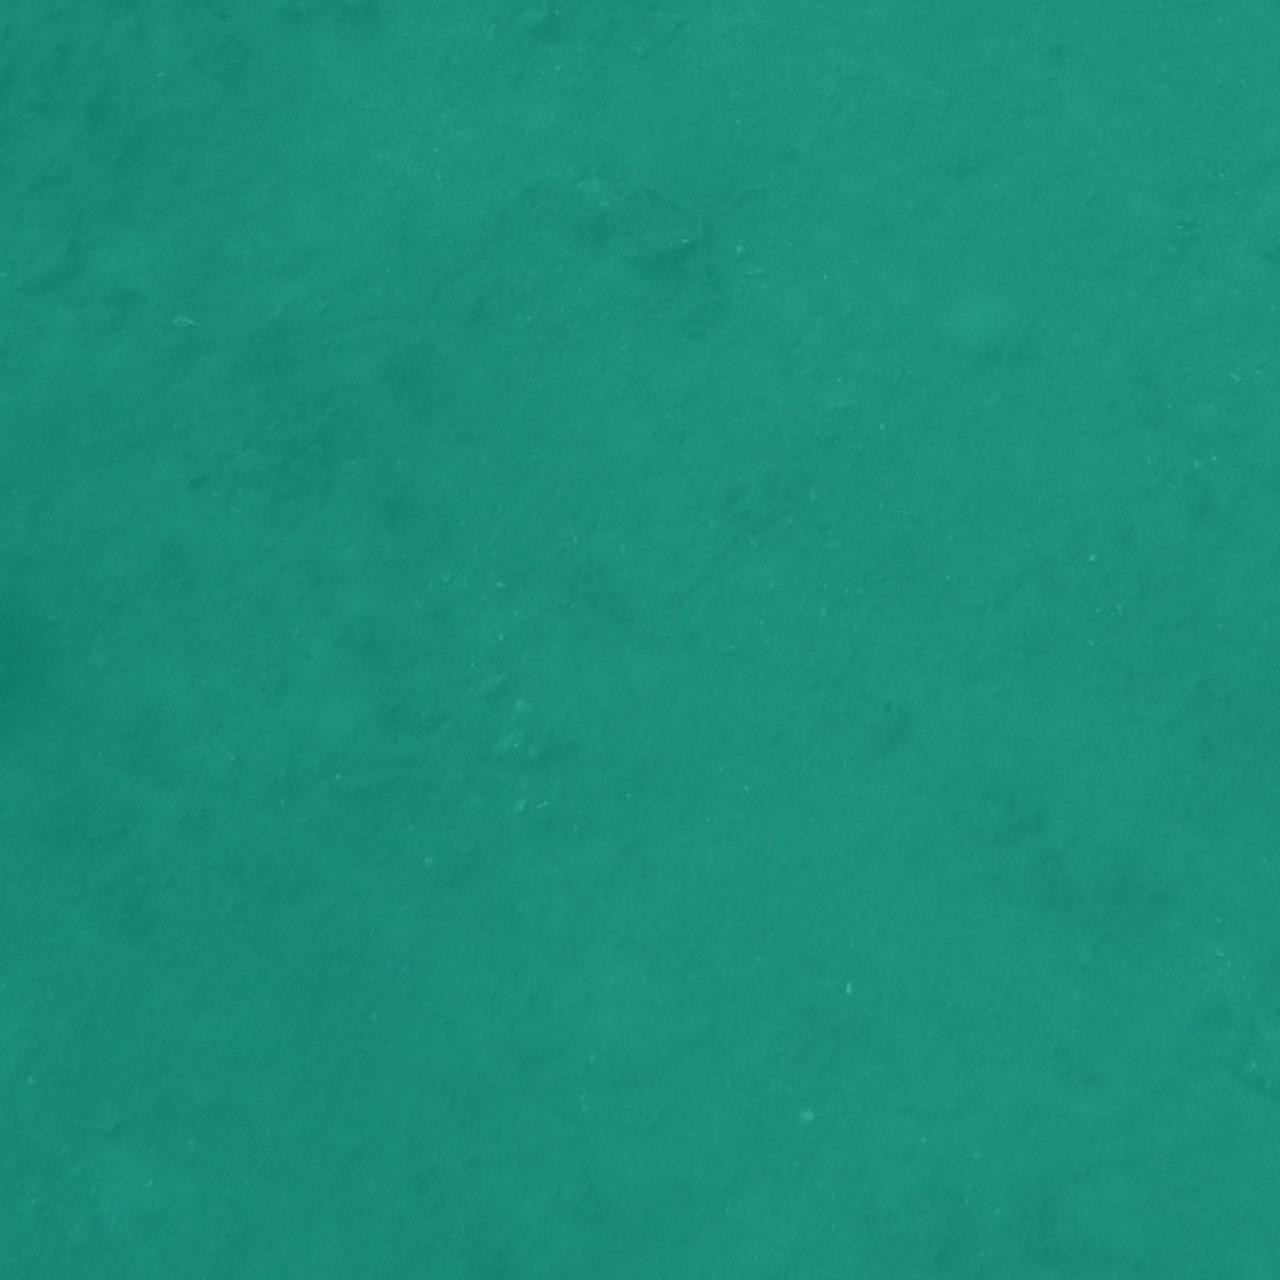Holothuria tubulosa: (1124, 380, 1280, 628), (1122, 19, 1280, 179), (772, 1196, 1061, 1280), (539, 0, 813, 70), (74, 0, 381, 48), (1054, 0, 1280, 61), (1151, 1186, 1280, 1280), (1141, 1194, 1280, 1280), (0, 592, 89, 724), (0, 855, 102, 965), (1171, 1179, 1280, 1280), (0, 1145, 75, 1280), (0, 38, 95, 135), (0, 0, 63, 144), (1152, 1223, 1280, 1280), (1228, 0, 1280, 125), (1224, 0, 1280, 97)
